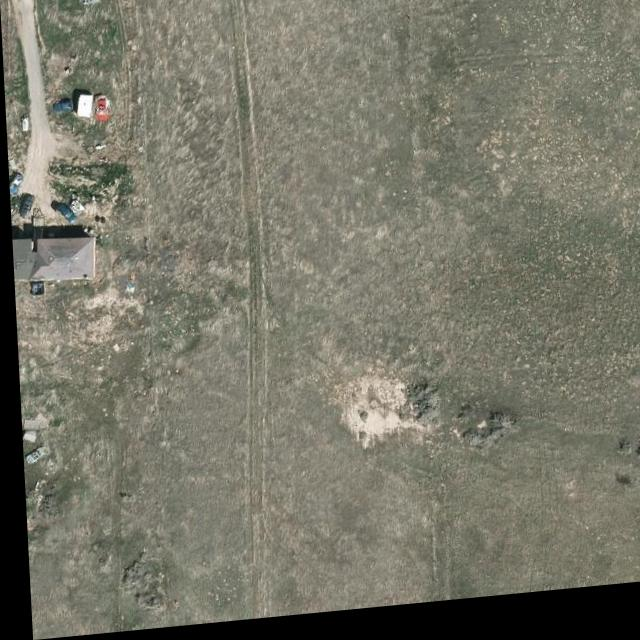vehicle: (51, 203, 77, 227), (91, 95, 110, 124), (15, 193, 33, 220), (20, 447, 43, 466), (7, 172, 22, 195), (51, 100, 73, 114)
